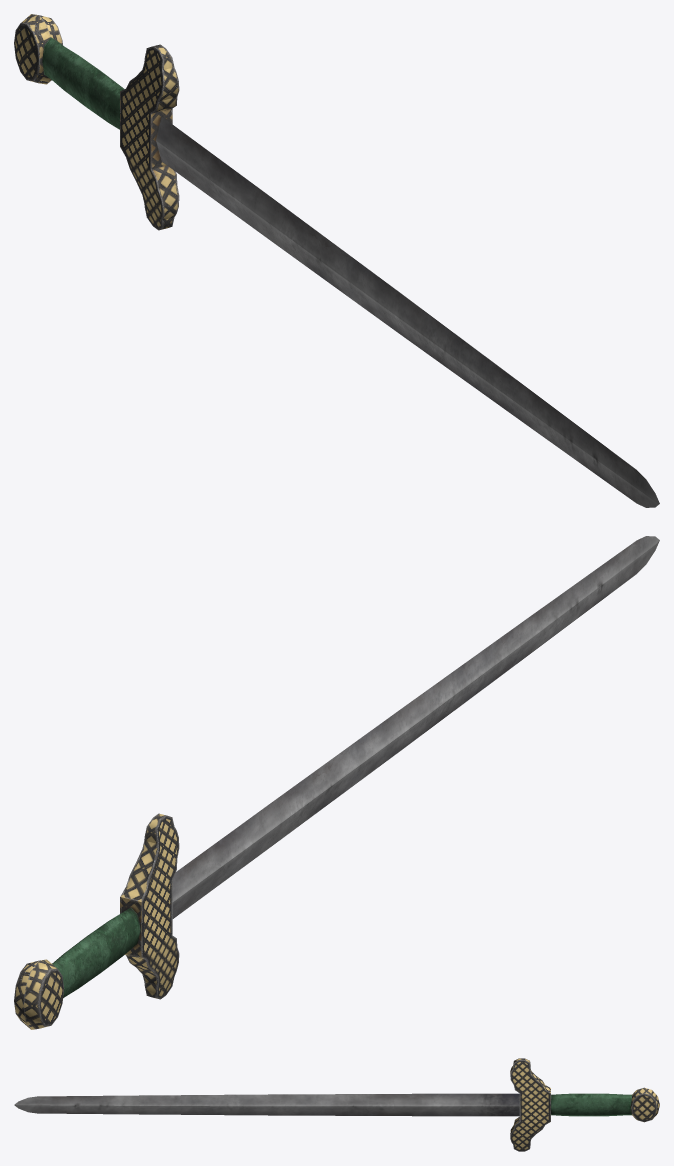
The model's file is weapon_sword_03.fbx.
3 renders of one model, top to bottom at view 1: azimuth 30°, elevation 25°; view 2: azimuth 150°, elevation 25°; view 3: azimuth 270°, elevation 25°, orthographic. The views are drawn at different scales.
Parts seen in each view (by area): view 1: weapon_sword_03; view 2: weapon_sword_03; view 3: weapon_sword_03.
Part boxes in pixels (x1,y1,x2,y2): weapon_sword_03: [14, 14, 659, 507]; weapon_sword_03: [14, 536, 659, 1029]; weapon_sword_03: [14, 1058, 659, 1151].
Bounding box in the file's own units: 5.77 × 32.21 × 206.
1 material, 1 textured.
